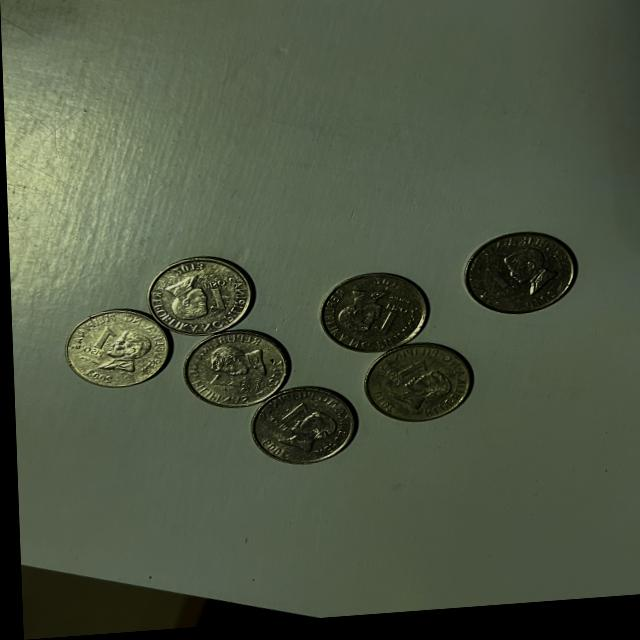1_Old_Front: (258, 406, 311, 444), (369, 299, 408, 341), (384, 363, 427, 398), (481, 267, 516, 309), (75, 327, 118, 359), (199, 275, 231, 316), (205, 373, 253, 397)
